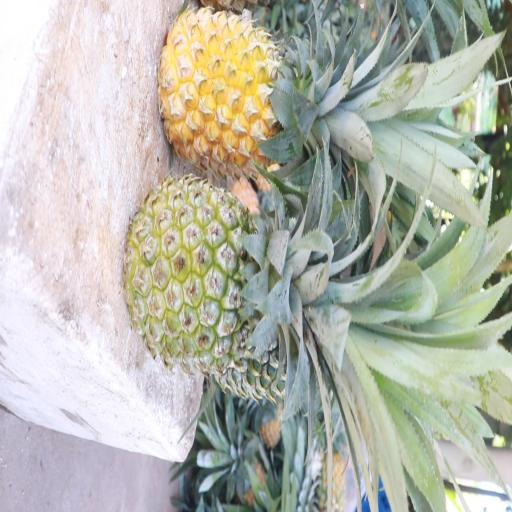------------------------------: (126, 181, 319, 358)
Pineapple - v8 v1: (163, 2, 343, 167)
